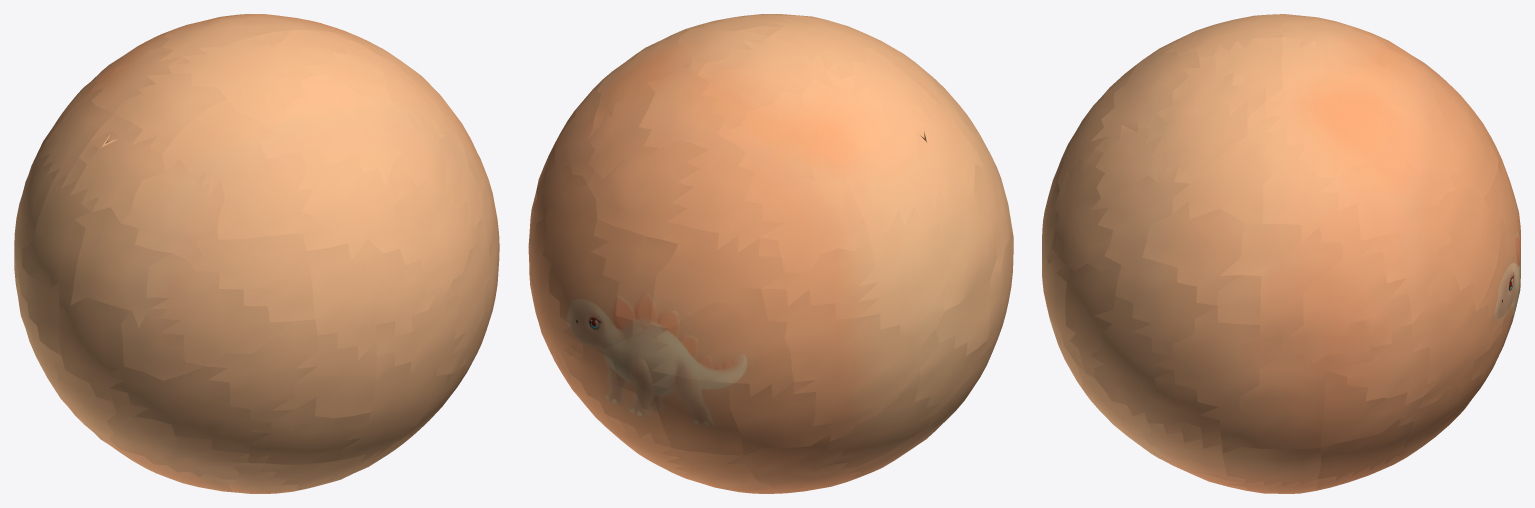
3 renders of one model, left to right at view 1: azimuth 30°, elevation 25°; view 2: azimuth 150°, elevation 25°; view 3: azimuth 270°, elevation 25°, orthographic.
Size of the model in its own units: 1 by 0.9997 by 1.
1 material, 1 textured.
